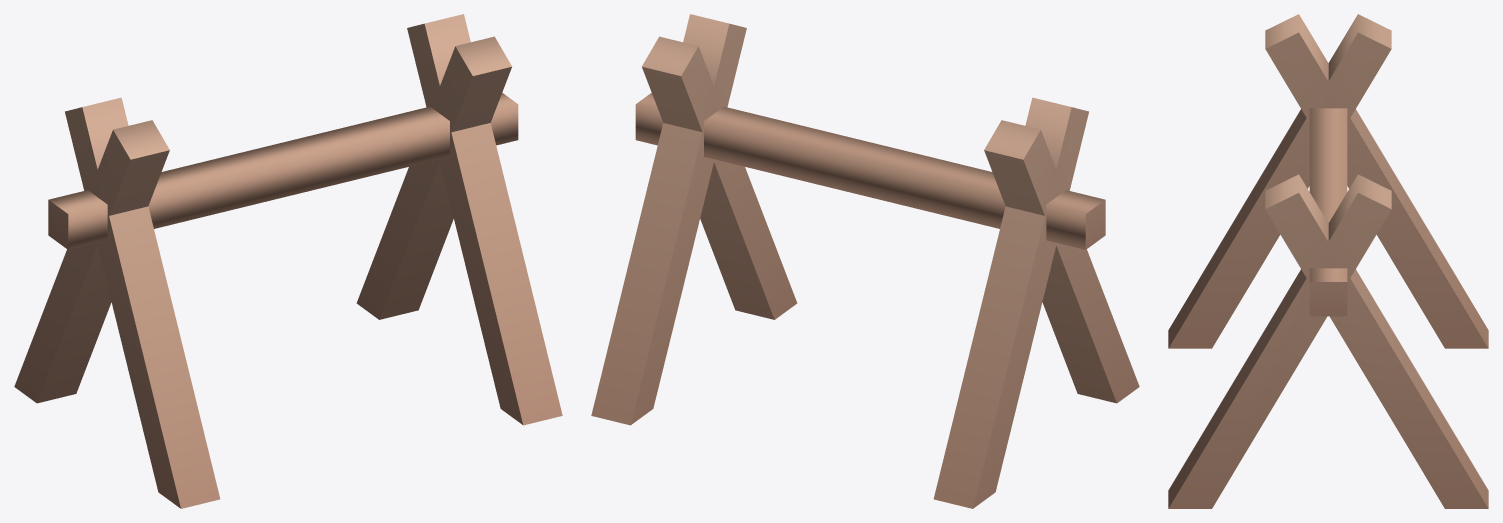
Rendered from campfire-fishing-stand.glb.
The picture shows the model from 3 angles, left to right: view 1: azimuth 30°, elevation 25°; view 2: azimuth 150°, elevation 25°; view 3: azimuth 270°, elevation 25°; orthographic projection. The views are drawn at different scales.
Parts seen in each view (by area): view 1: campfire-fishing-stand; view 2: campfire-fishing-stand; view 3: campfire-fishing-stand.
Part boxes in pixels (<box>): campfire-fishing-stand: <box>14,14,562,508</box>; campfire-fishing-stand: <box>591,14,1139,508</box>; campfire-fishing-stand: <box>1168,14,1488,508</box>.
Bounding box in the file's own units: 0.3945 × 0.276 × 0.2533.
